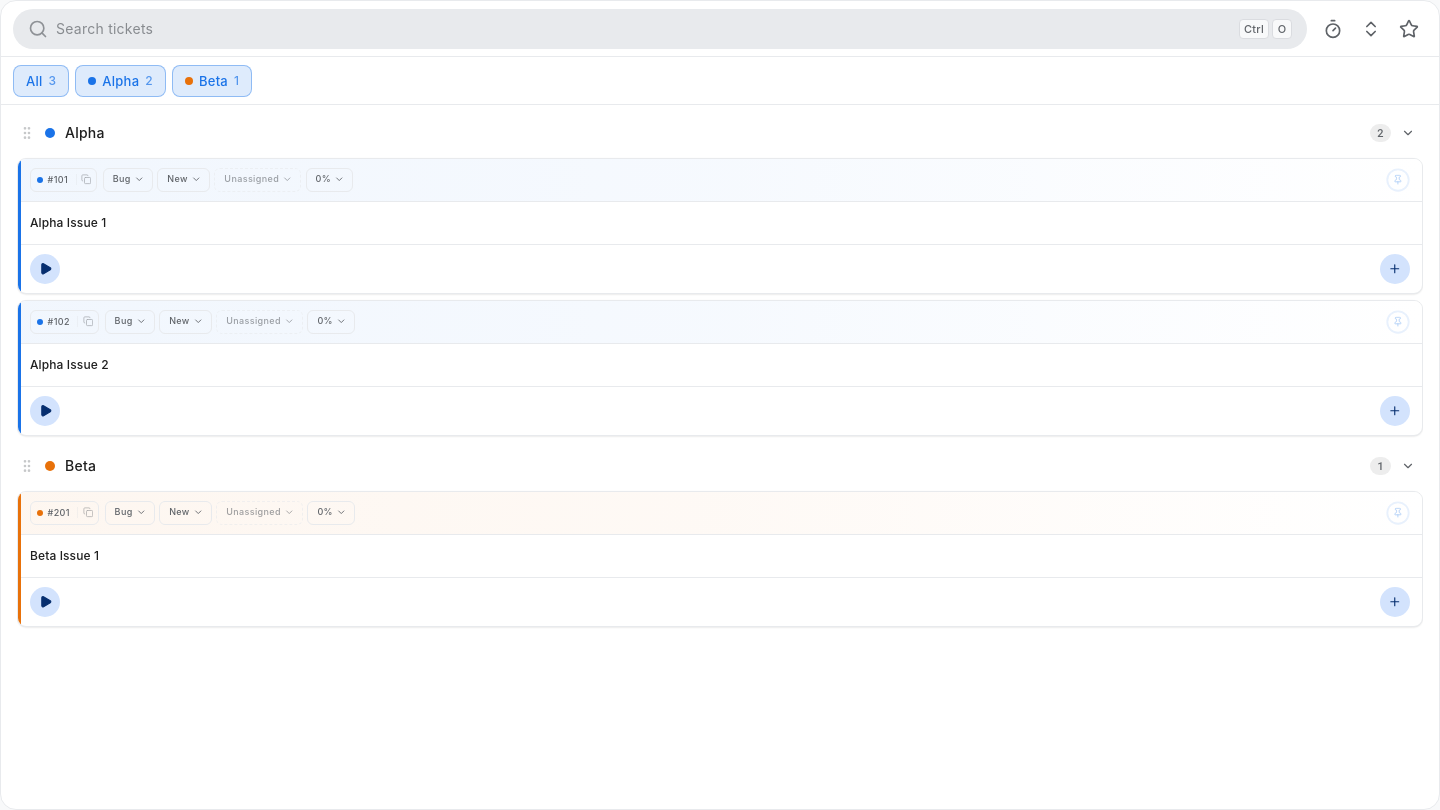
TicketList › search matches by issue ID
This screenshot has width=1440, height=810.
Type "201" into the field with placeholder "Search tickets" at (644, 29), box [56,19,1231,39]
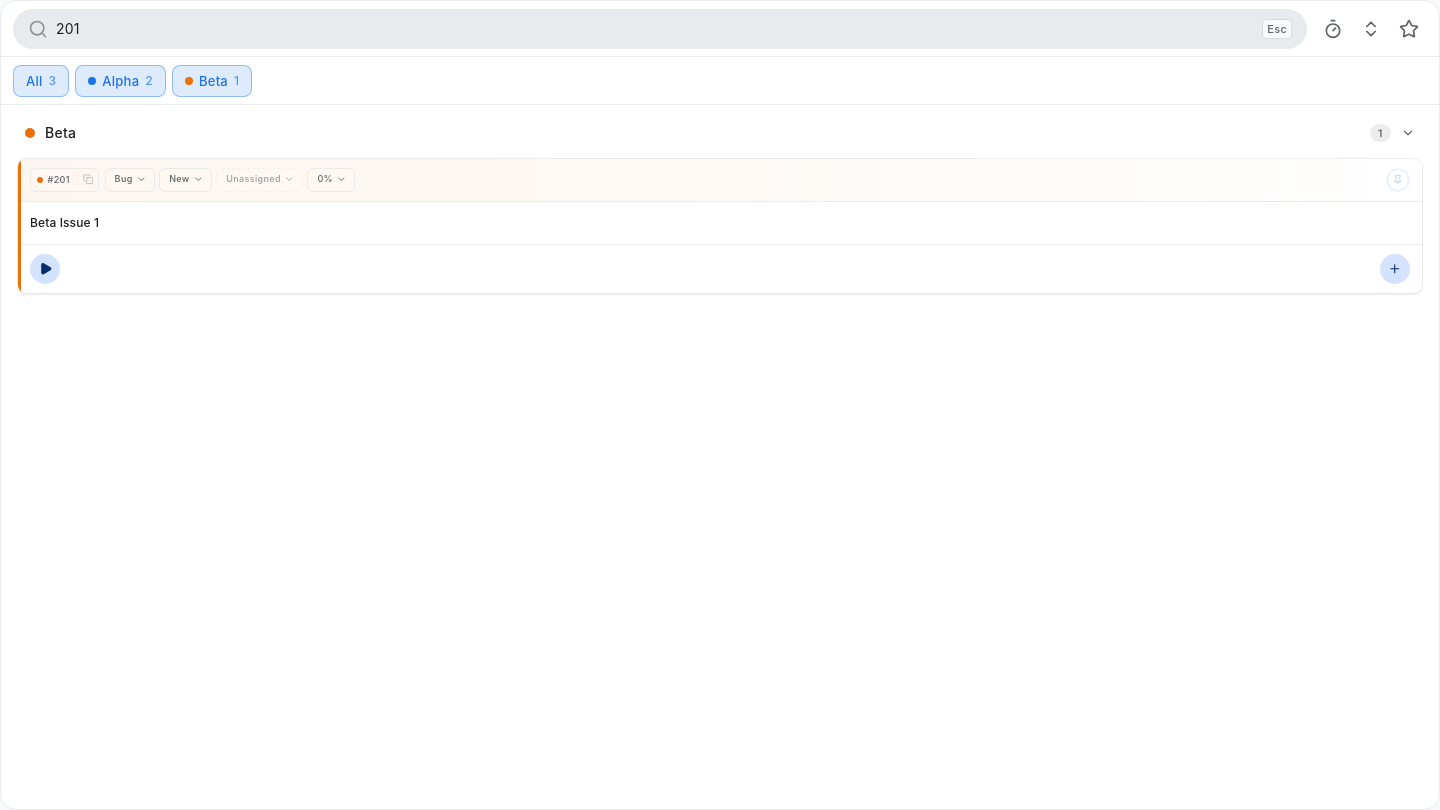
Expected: the text "Beta Issue 1" is shown, [30,214,99,232]
Expected: the text "Alpha Issue 1" is gone
